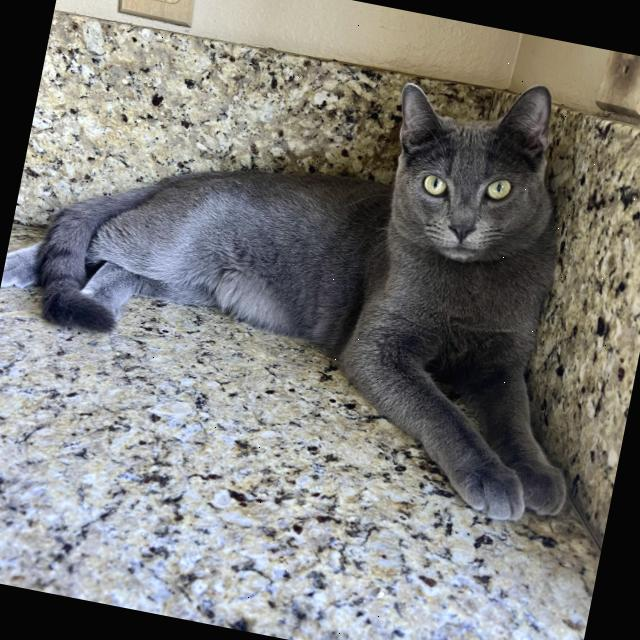russian_blue_cat: (362, 56, 584, 292)
